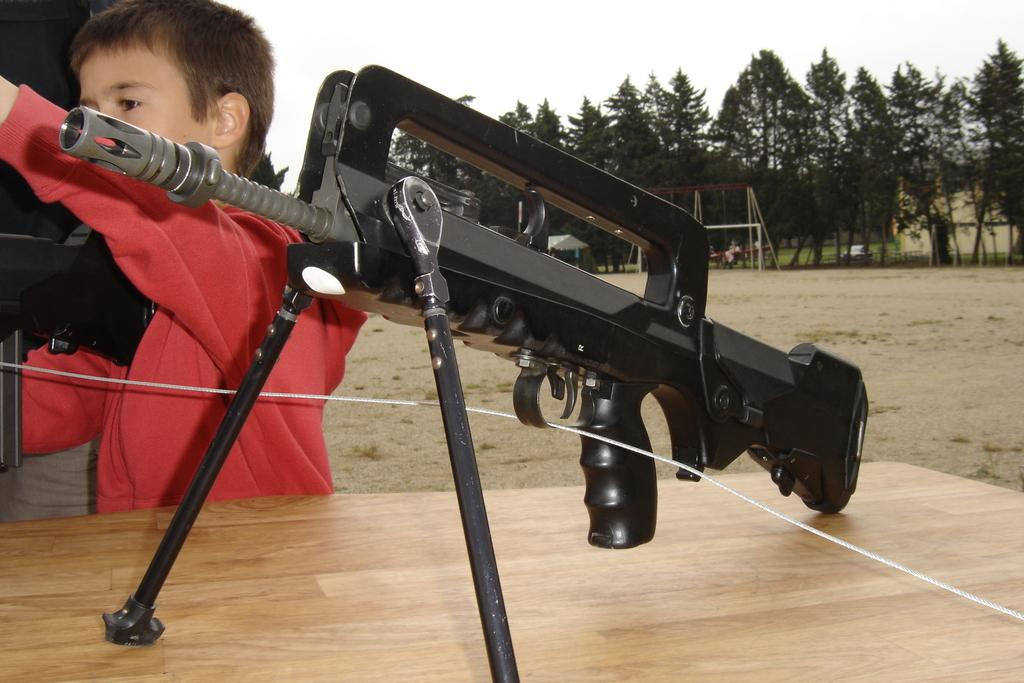non-violence: (1, 1, 351, 494)
weapon: (67, 65, 867, 682)
